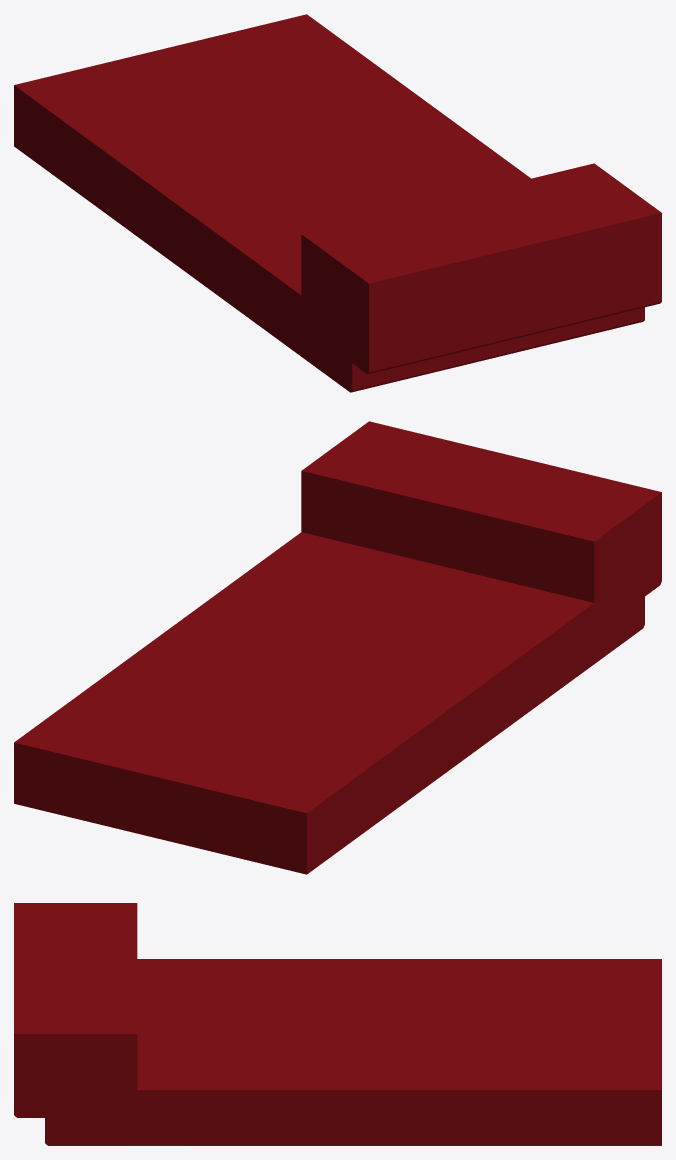
Rendered from SM_MH_01_Wood_Porch_Quarter_01.fbx.
The picture shows the model from 3 angles, top to bottom: view 1: azimuth 30°, elevation 25°; view 2: azimuth 150°, elevation 25°; view 3: azimuth 270°, elevation 25°; orthographic projection. The views are drawn at different scales.
Visible parts, largest first — view 1: SM_MH_01_Wood_Porch_Quarter_01_LOD0; view 2: SM_MH_01_Wood_Porch_Quarter_01_LOD0; view 3: SM_MH_01_Wood_Porch_Quarter_01_LOD0.
Part boxes in pixels (x1,y1,x2,y2): SM_MH_01_Wood_Porch_Quarter_01_LOD0: (14, 14, 661, 392); SM_MH_01_Wood_Porch_Quarter_01_LOD0: (14, 421, 661, 874); SM_MH_01_Wood_Porch_Quarter_01_LOD0: (14, 903, 661, 1145).
Size of what is drawn, in the model's own units: 50 by 20.09 by 105.
